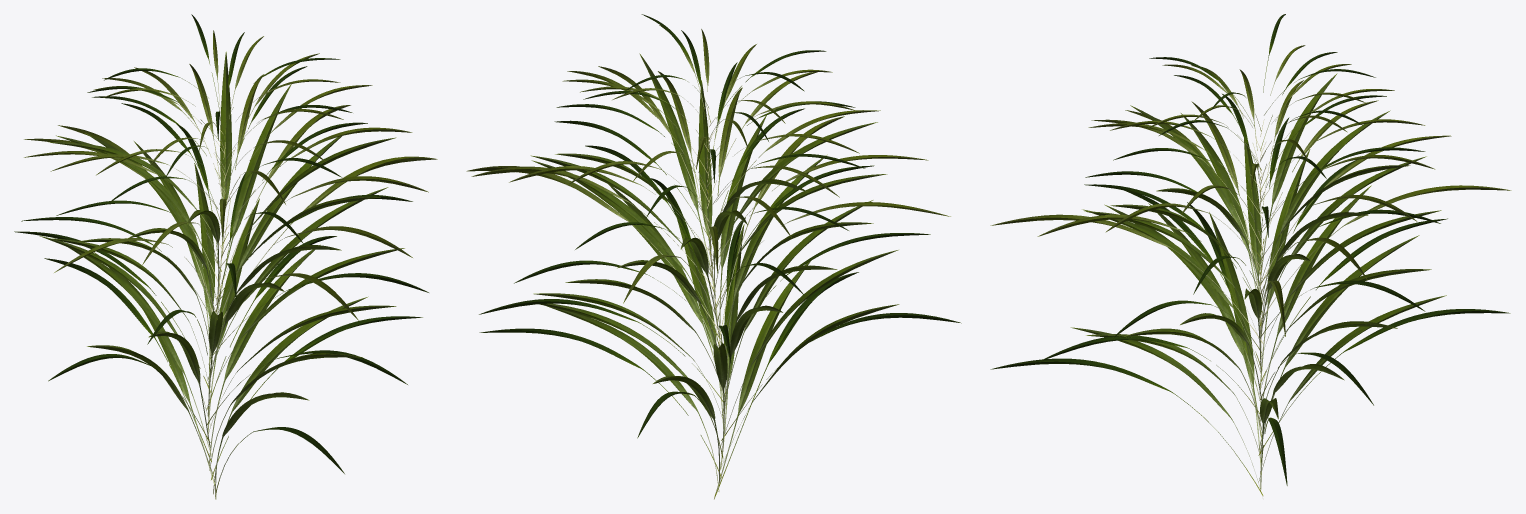
File: UnkrautGras.fbx
3 views of the same model, side by side, from view 1: azimuth 30°, elevation 25°; view 2: azimuth 150°, elevation 25°; view 3: azimuth 270°, elevation 25° (orthographic).
Parts seen in each view (by area): view 1: Circle.005; view 2: Circle.005; view 3: Circle.005.
Part boxes in pixels (x1,y1,x2,y2): Circle.005: (14,14,437,499); Circle.005: (466,14,961,499); Circle.005: (990,14,1511,496).
Size of the model in its own units: 3.37 by 3.25 by 3.46.
1 material, 1 textured.
